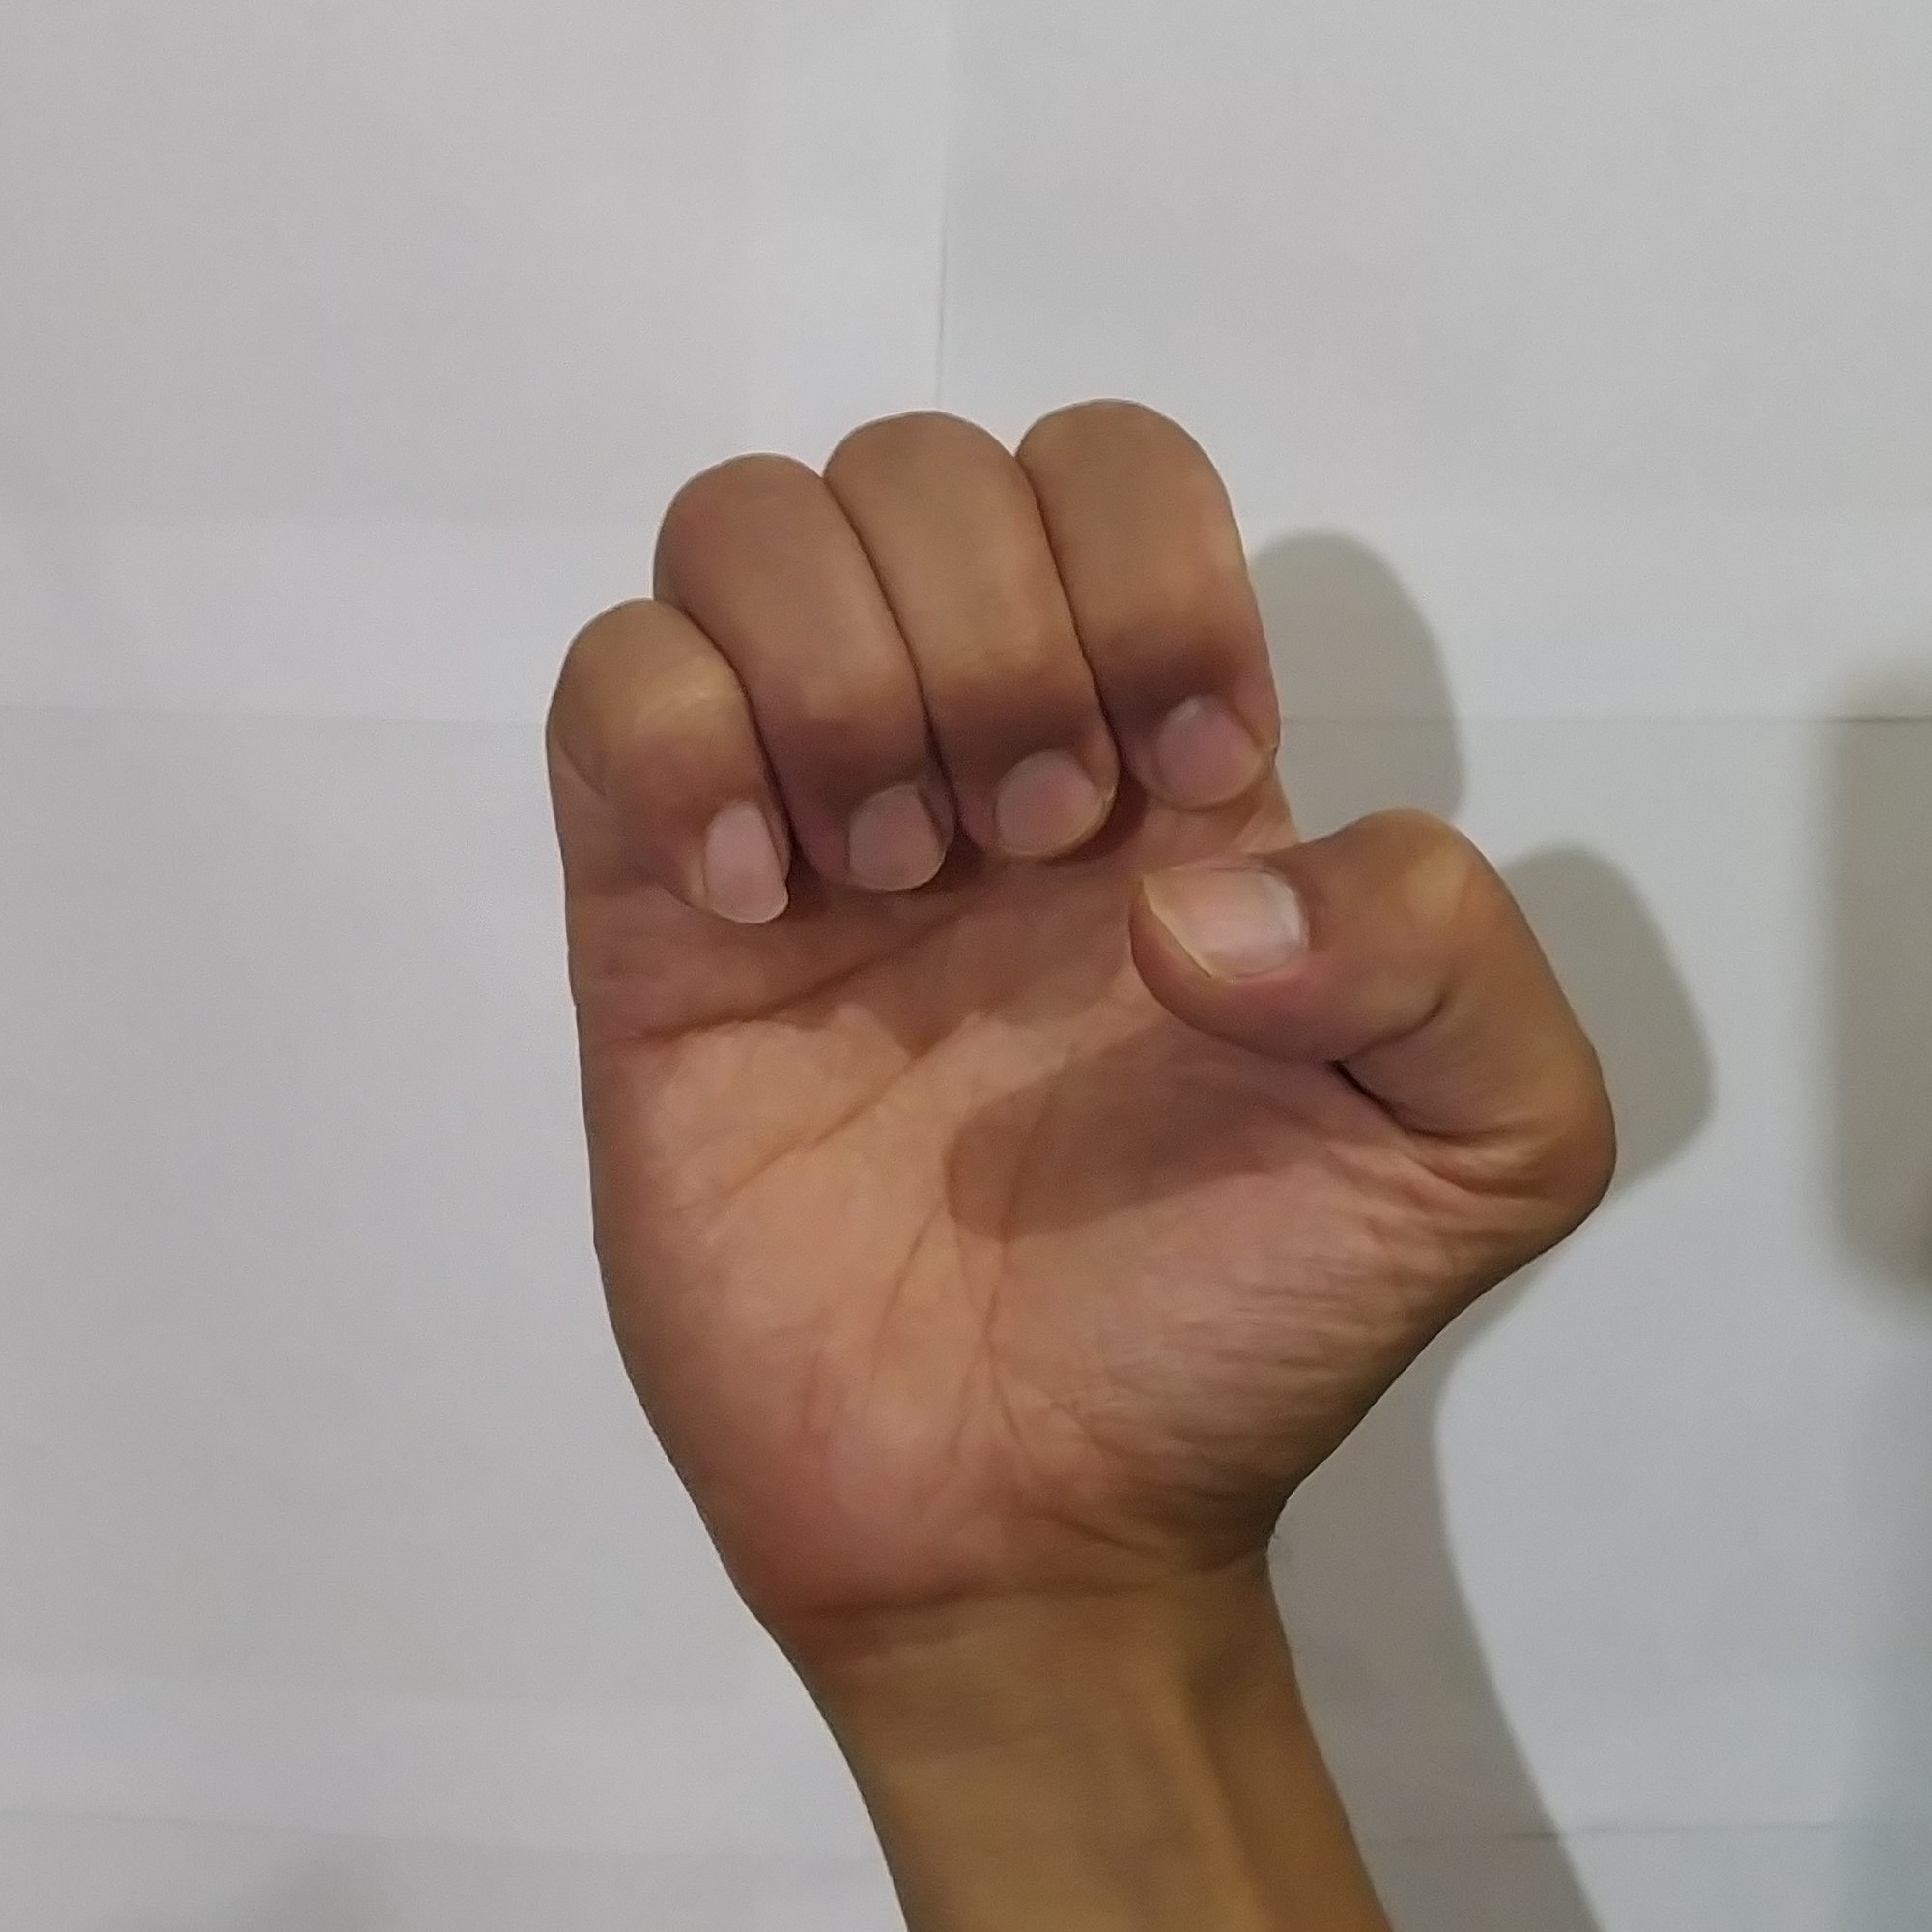E: (522, 377, 1637, 1559)
